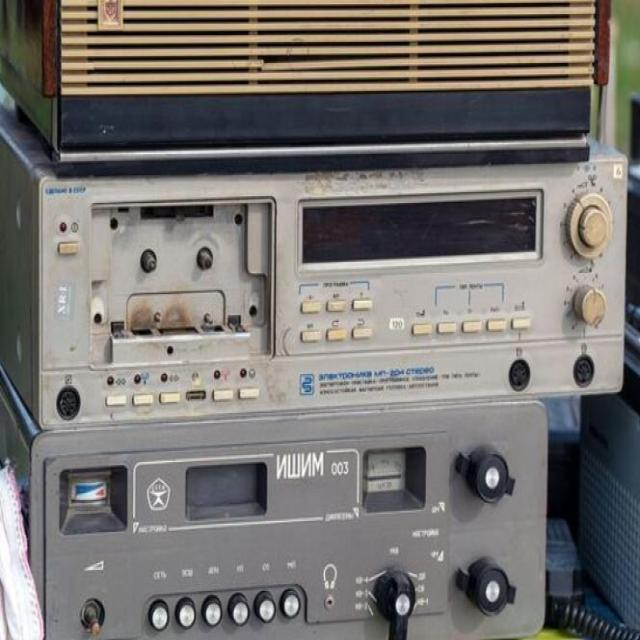electronic: (0, 110, 634, 432)
